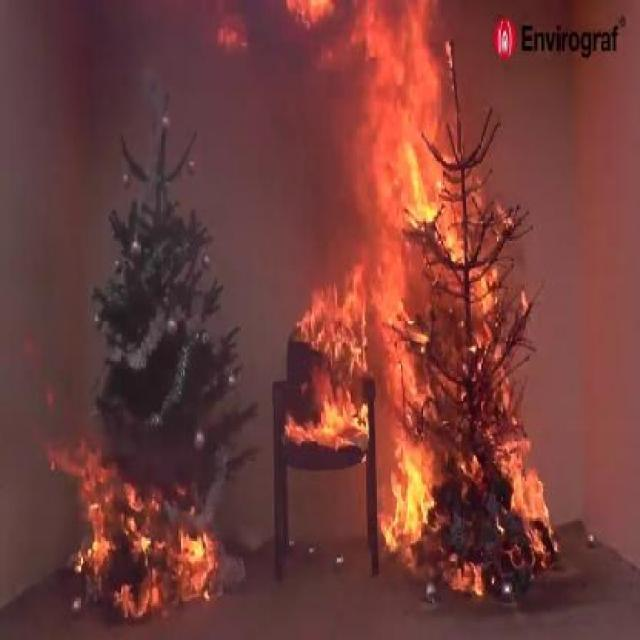fire: (294, 48, 552, 560), (66, 438, 229, 624)
smoke: (90, 58, 324, 354)
